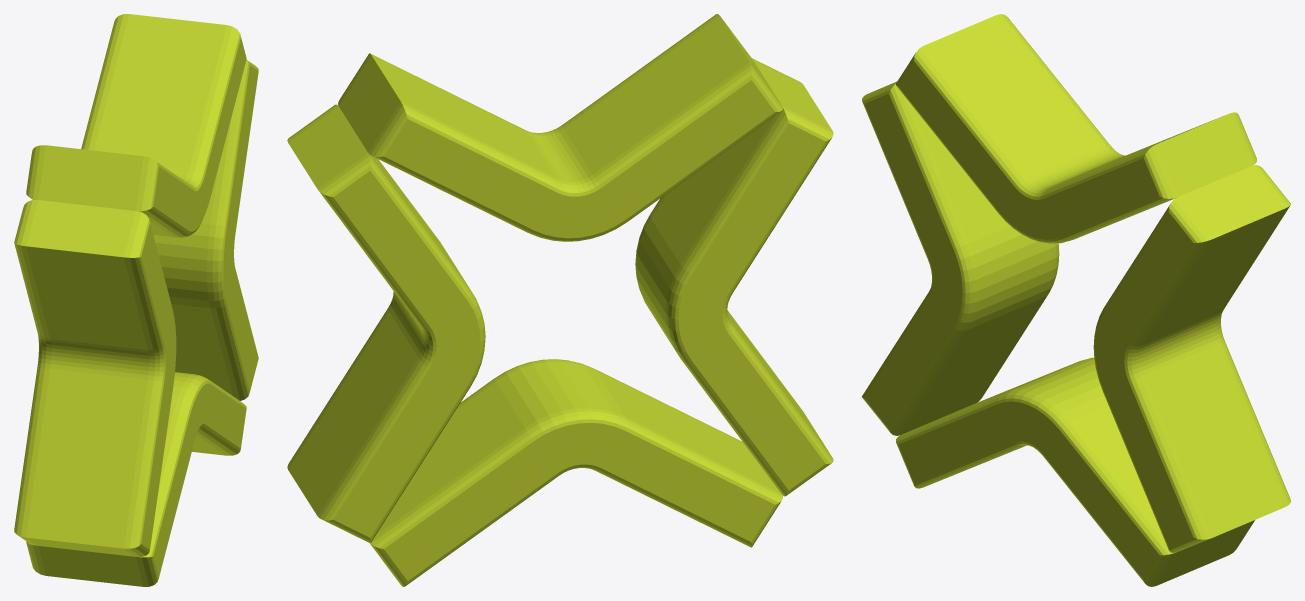
File: x-mark.gltf
3 views of the same model, side by side, from view 1: azimuth 30°, elevation 25°; view 2: azimuth 150°, elevation 25°; view 3: azimuth 270°, elevation 25° (orthographic). The views are drawn at different scales.
Bounding box in the file's own units: 91.98 × 105 × 91.98.
